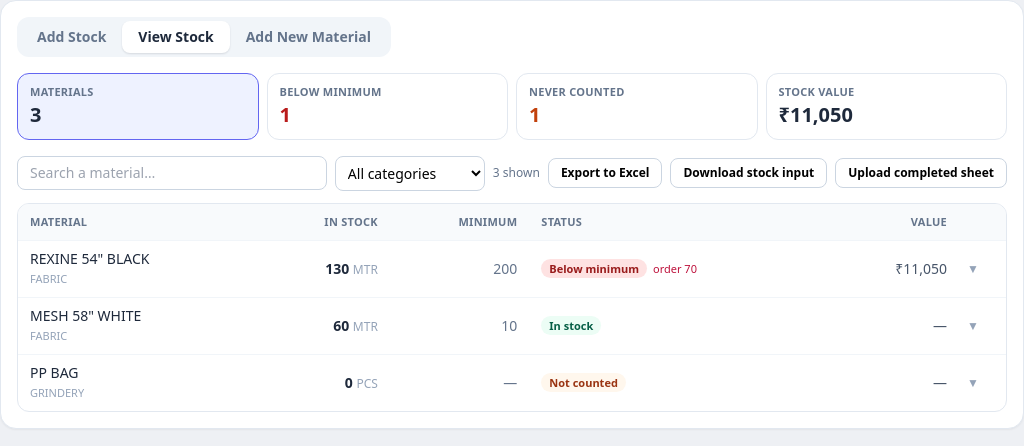
books a delivery as an addition, not a new running total
Step 1. Click the tab "Add Stock" → {"x": 72, "y": 37}, box left=21, top=21, right=122, bottom=53
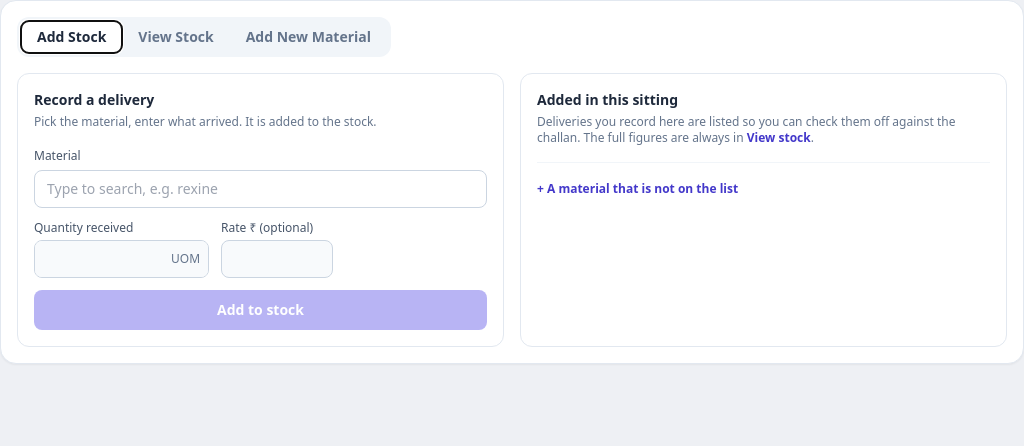
Now the button "Add to stock" is disabled, box left=34, top=290, right=487, bottom=330
Step 2. Type "rexine" into the field named "Material to receive" → {"x": 260, "y": 189}, box left=34, top=170, right=487, bottom=208
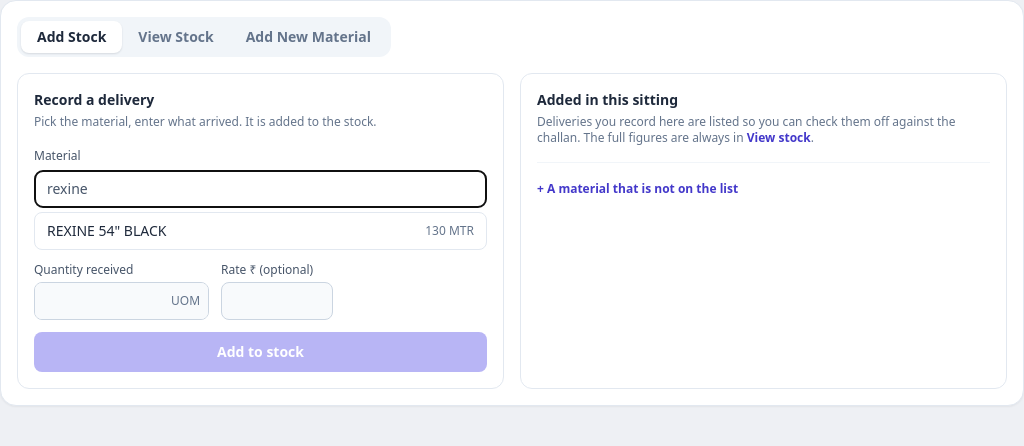
Step 3. Click the option "REXINE 54\" BLACK 130 MTR" → {"x": 107, "y": 230}, box left=35, top=213, right=486, bottom=249
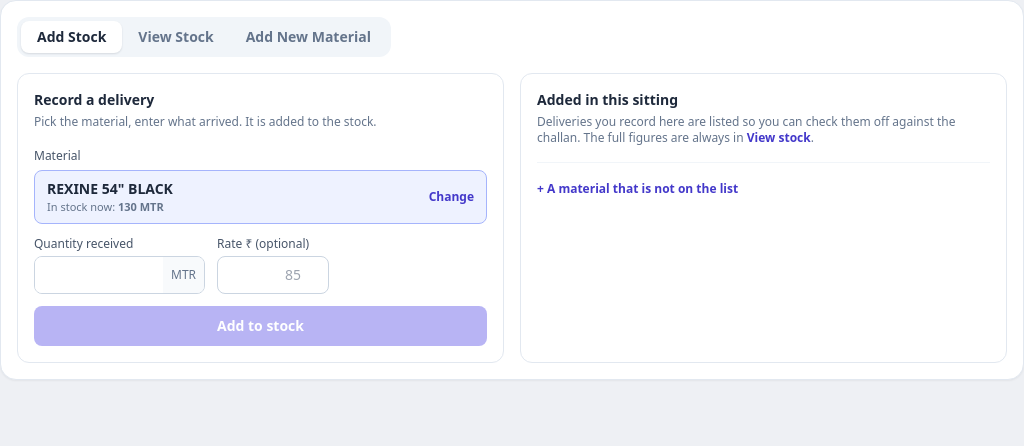
Step 4. Type "25" into the number field labelled "Quantity received" → {"x": 99, "y": 275}, box left=35, top=257, right=163, bottom=293
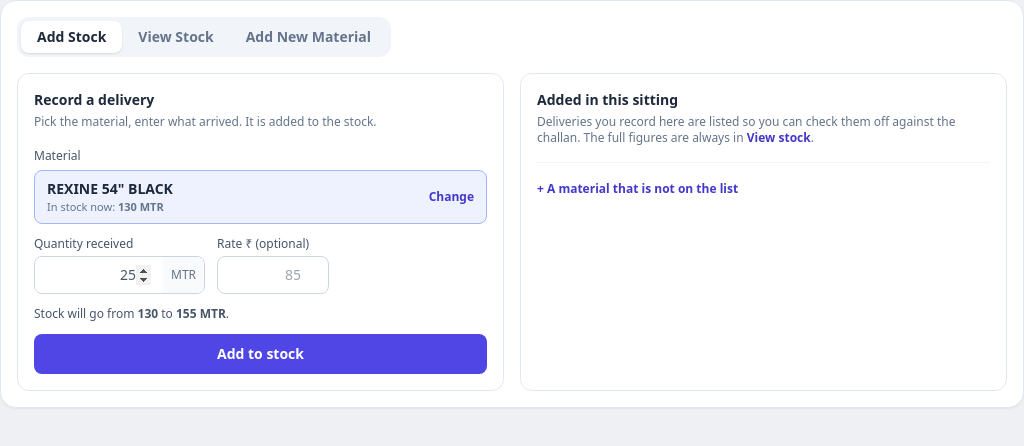
Now the text "Stock will go from 130 to 155 MTR." is shown, box left=34, top=305, right=229, bottom=322
Step 5. Click the button "Add to stock" → {"x": 260, "y": 354}, box left=34, top=334, right=487, bottom=374
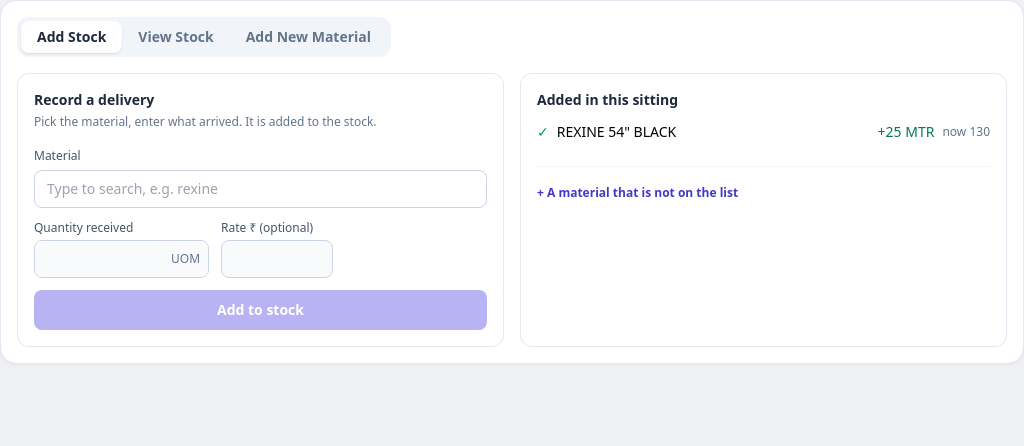
Now the text "+25 MTR" is shown, box left=878, top=122, right=934, bottom=142
